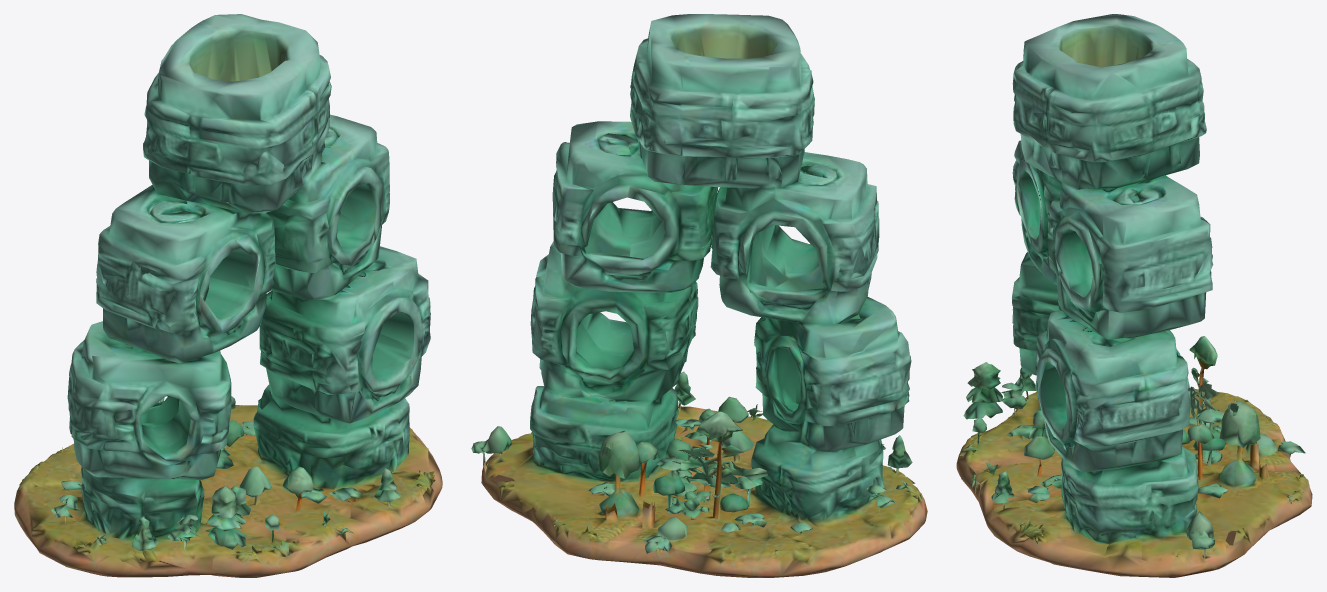
File: 04-stage-two-gate.glb
3 renders of one model, left to right at view 1: azimuth 30°, elevation 25°; view 2: azimuth 150°, elevation 25°; view 3: azimuth 270°, elevation 25°, orthographic. The views are drawn at different scales.
Parts seen in each view (by area): view 1: tripo_node_78c307cd-2b45-43f9-bfbb-293f34d53bee; view 2: tripo_node_78c307cd-2b45-43f9-bfbb-293f34d53bee; view 3: tripo_node_78c307cd-2b45-43f9-bfbb-293f34d53bee.
Boxes of the visible parts, box(x1,y1,x2,y2) form: tripo_node_78c307cd-2b45-43f9-bfbb-293f34d53bee: box(14, 14, 442, 577); tripo_node_78c307cd-2b45-43f9-bfbb-293f34d53bee: box(471, 14, 927, 577); tripo_node_78c307cd-2b45-43f9-bfbb-293f34d53bee: box(956, 14, 1312, 577).
Bounding box in the file's own units: 1.24 × 1.38 × 0.9967.
1 material, 1 textured.
